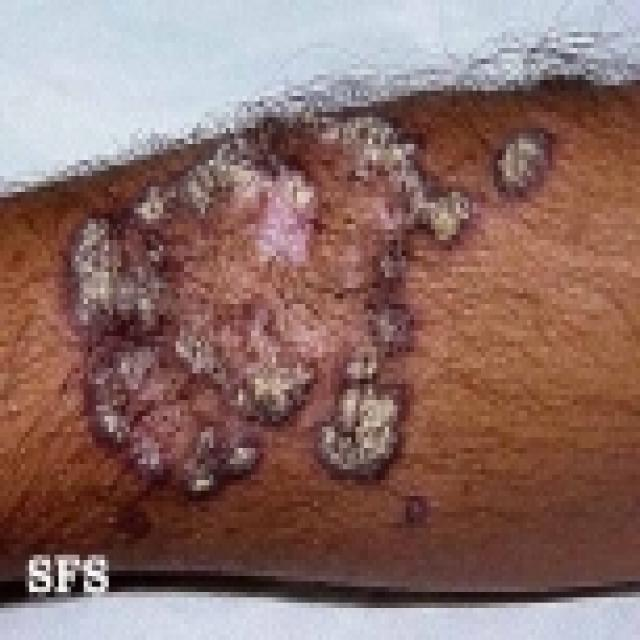lupus: (60, 103, 562, 500)
